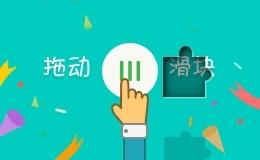target: (142, 37, 184, 77)
